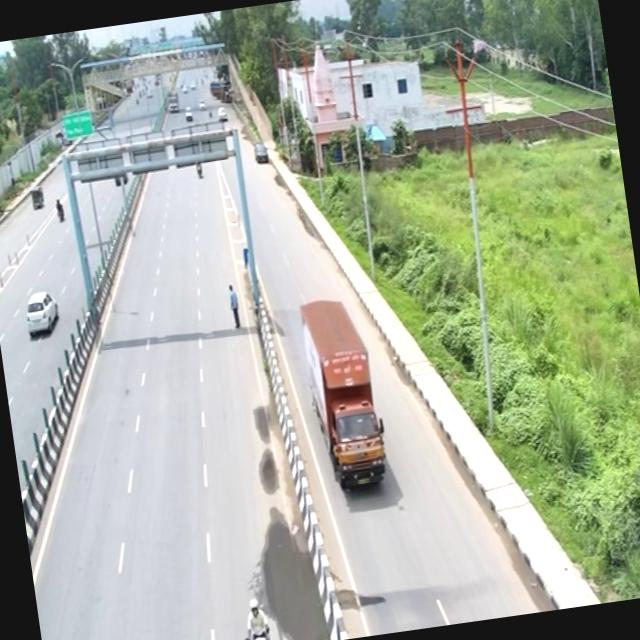car: (20, 286, 63, 340)
